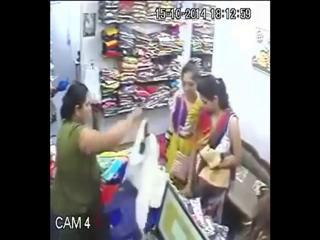Normal: (51, 80, 144, 239), (192, 76, 242, 224), (169, 61, 206, 139)
